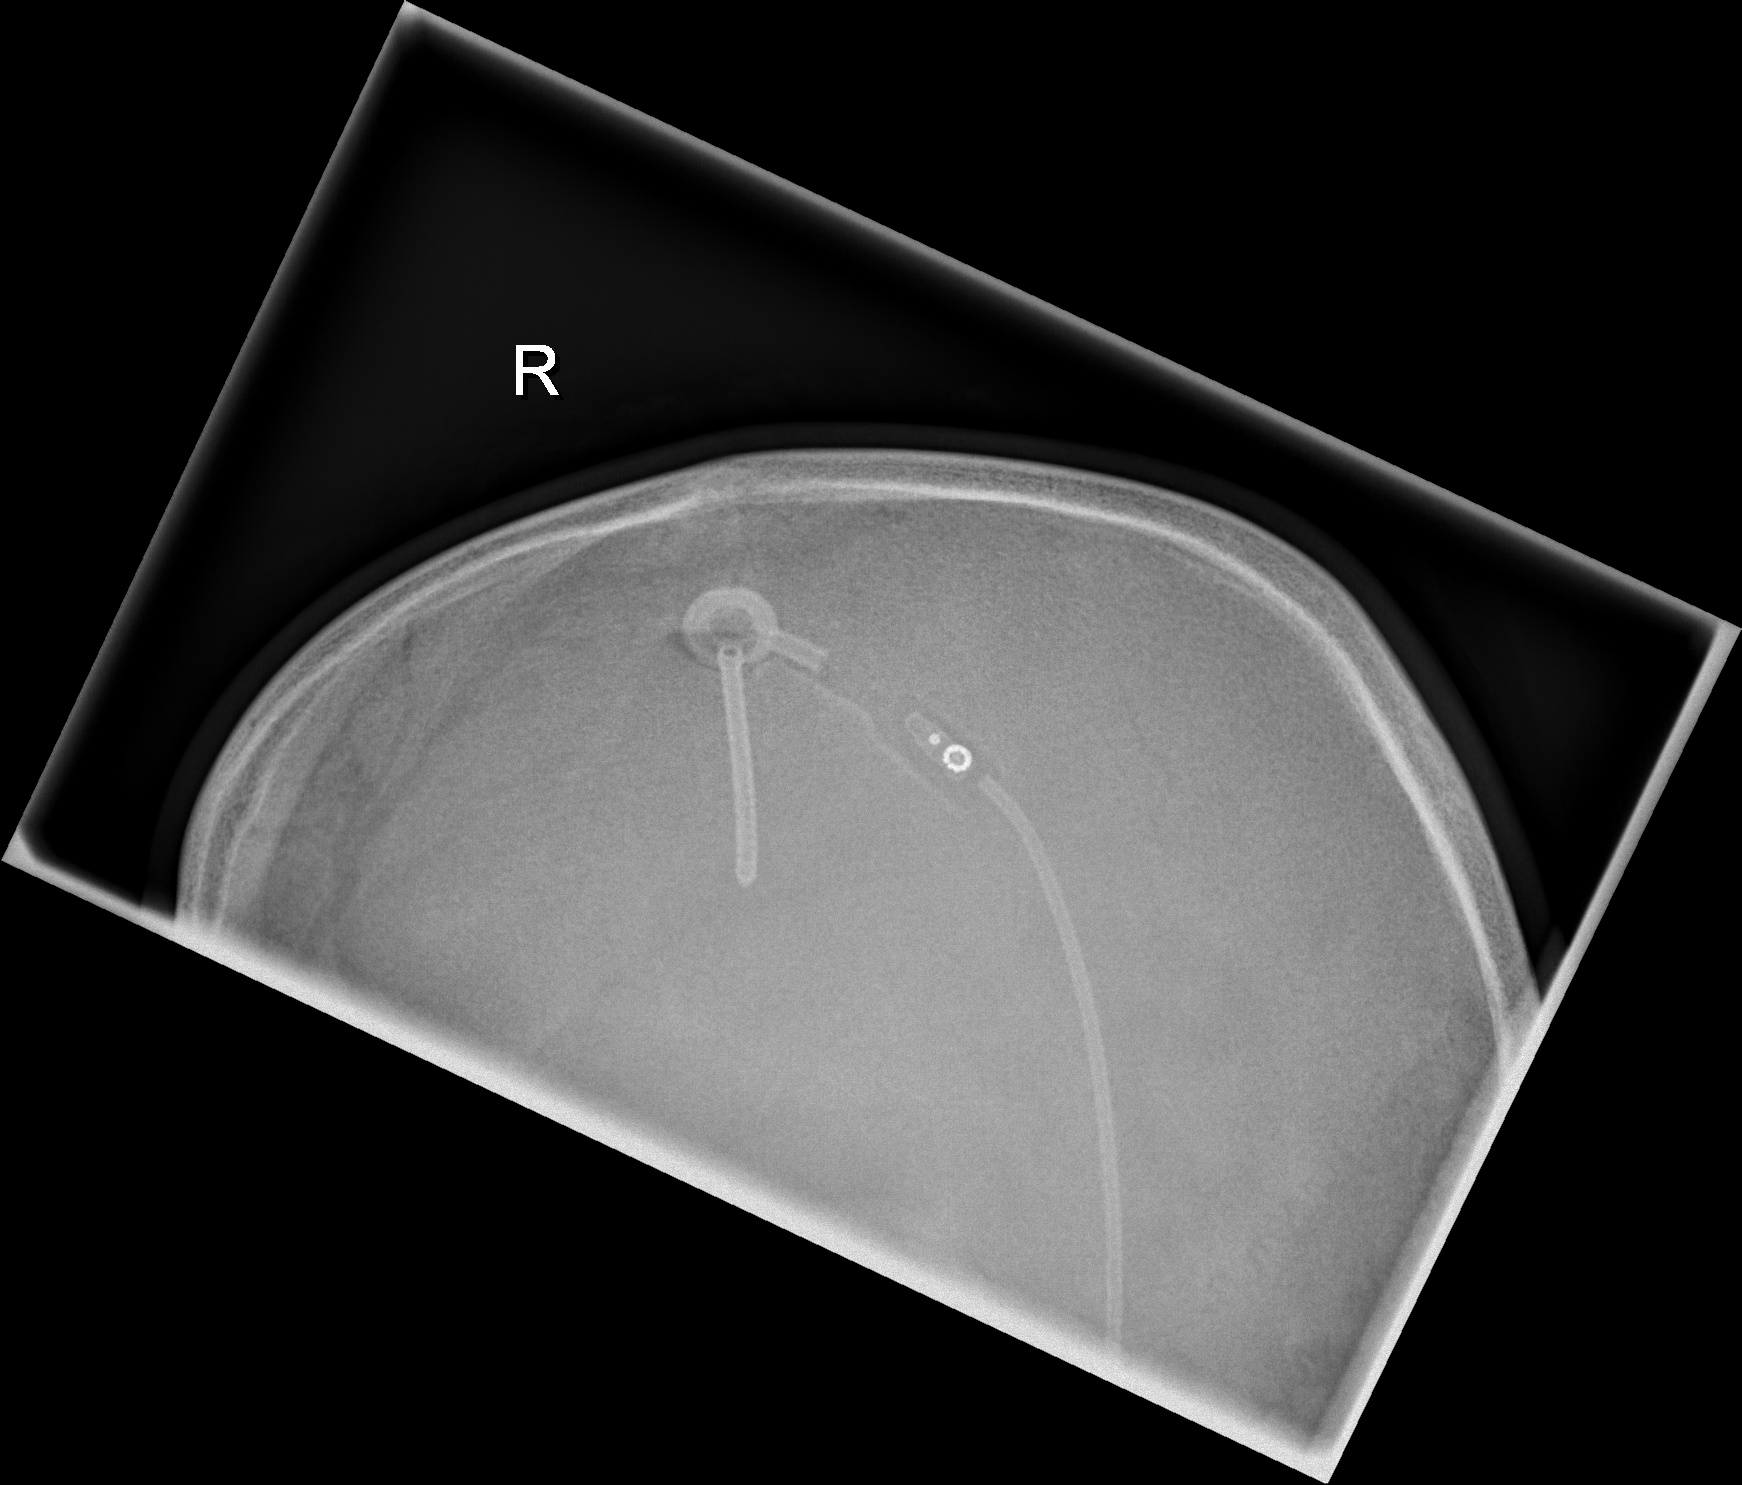Codman Hakim: (911, 717, 981, 779)
